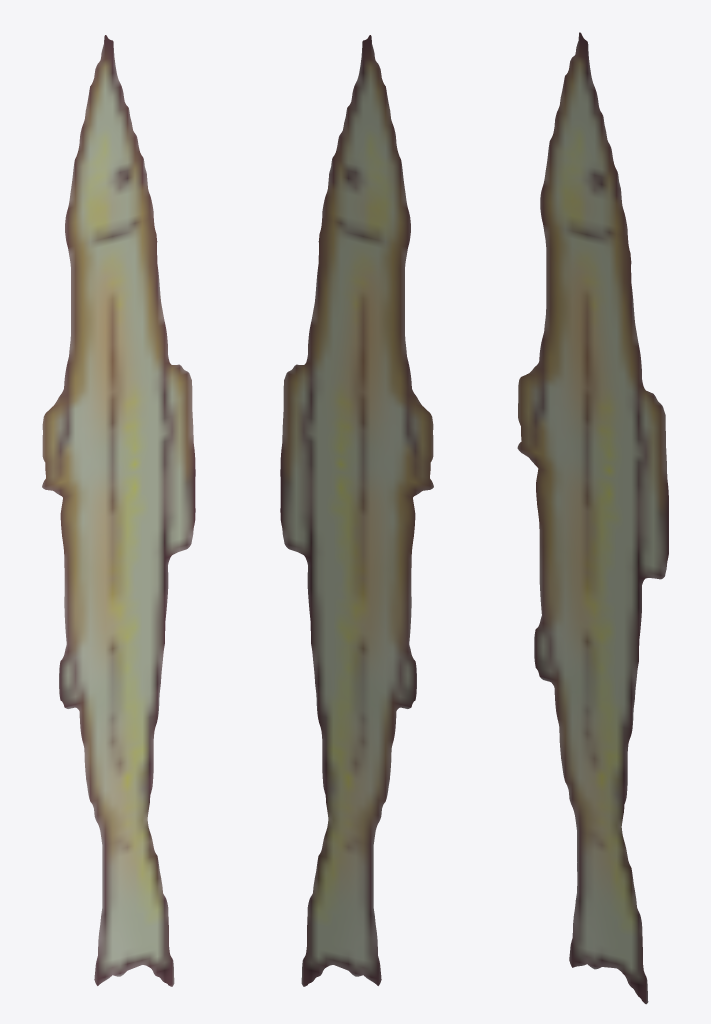
Rendered from giftgoods062.fbx.
3 renders of one model, left to right at view 1: azimuth 30°, elevation 25°; view 2: azimuth 150°, elevation 25°; view 3: azimuth 330°, elevation 25°, orthographic.
Visible parts, largest first — view 1: giftgoods062; view 2: giftgoods062; view 3: giftgoods062.
Part boxes in pixels (box(x1,y1,x2,y2)): giftgoods062: box(42, 35, 195, 986); giftgoods062: box(280, 35, 433, 986); giftgoods062: box(517, 32, 668, 1004).
Size of the model in its own units: 0.2112 by 0.9557 by 0.
